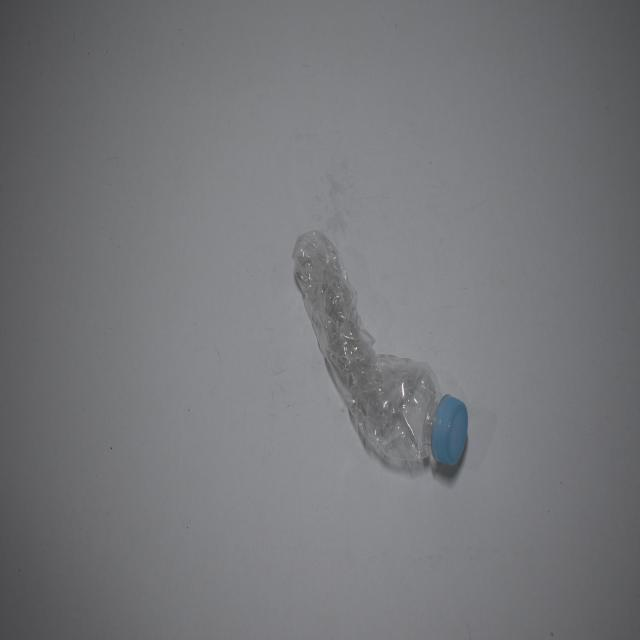bottle: (284, 219, 472, 497)
